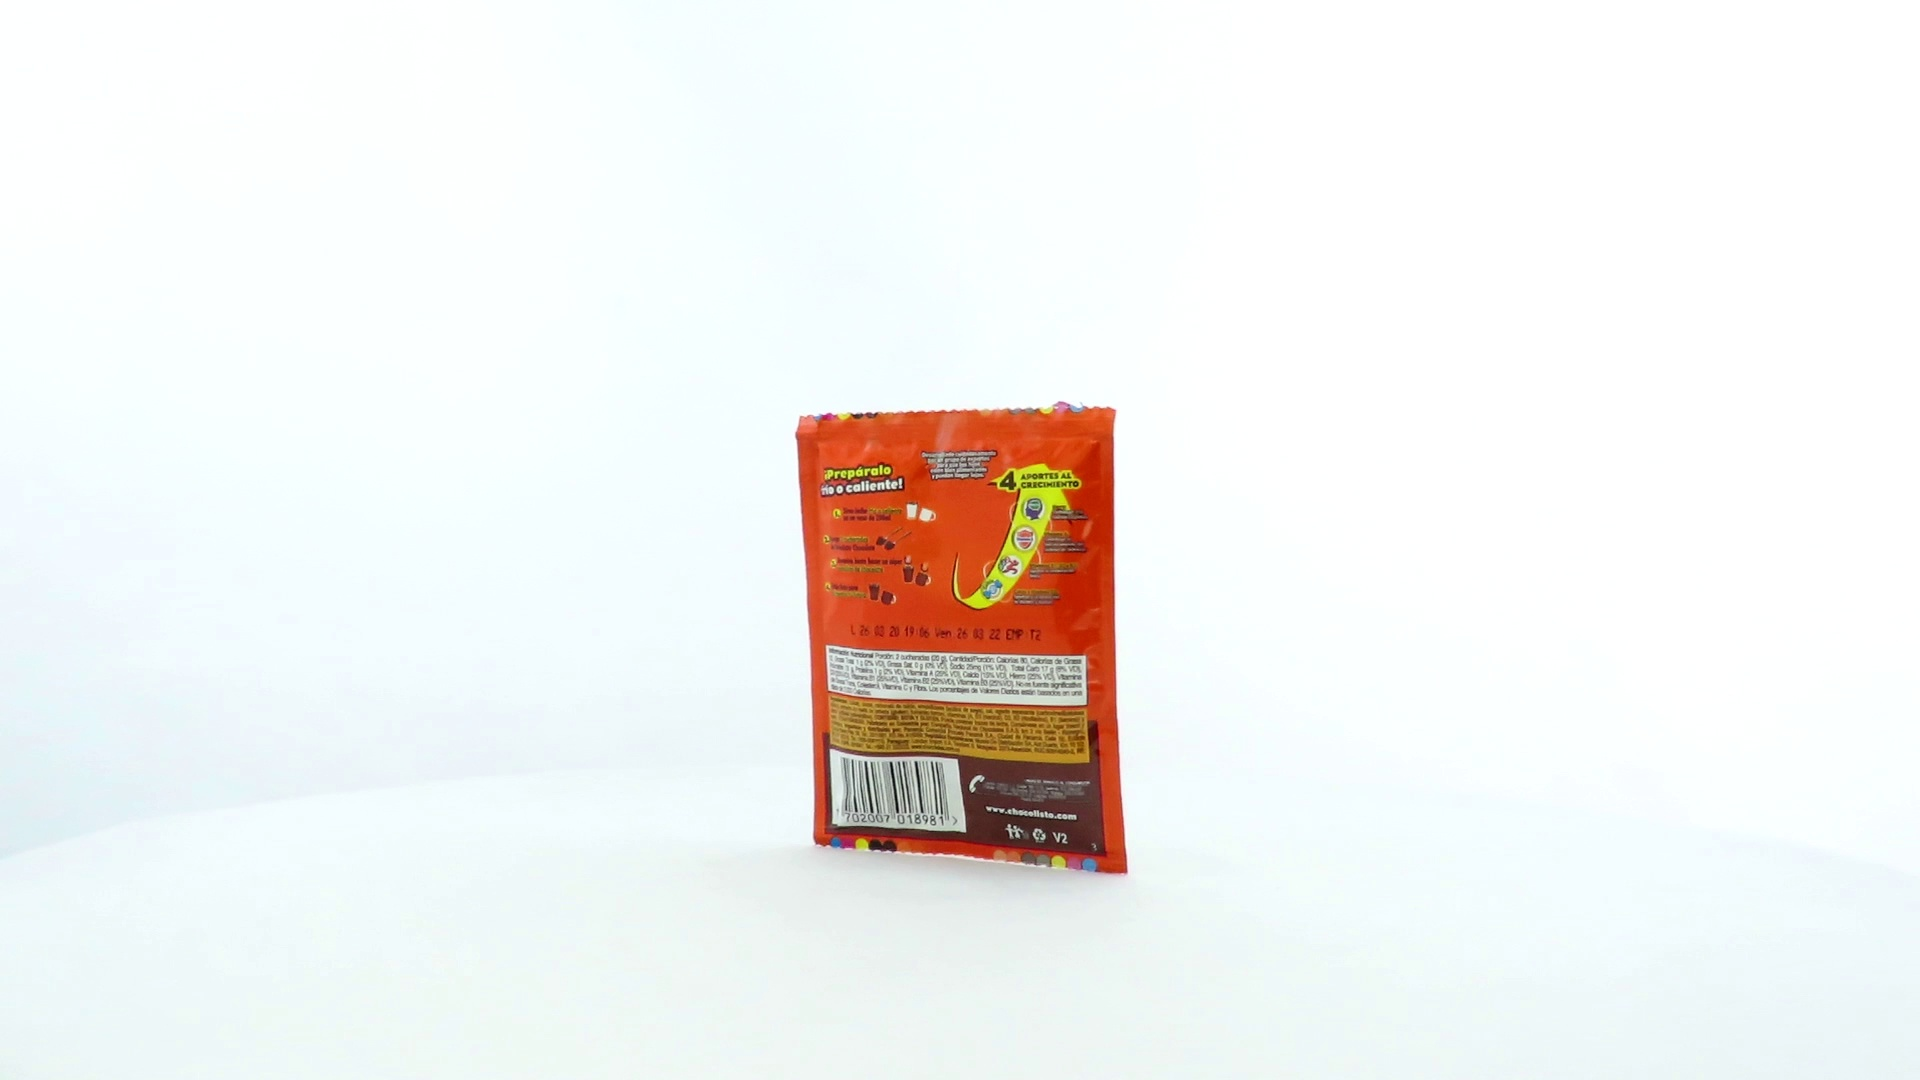COL0170103SOB02000: (790, 396, 1134, 880)
